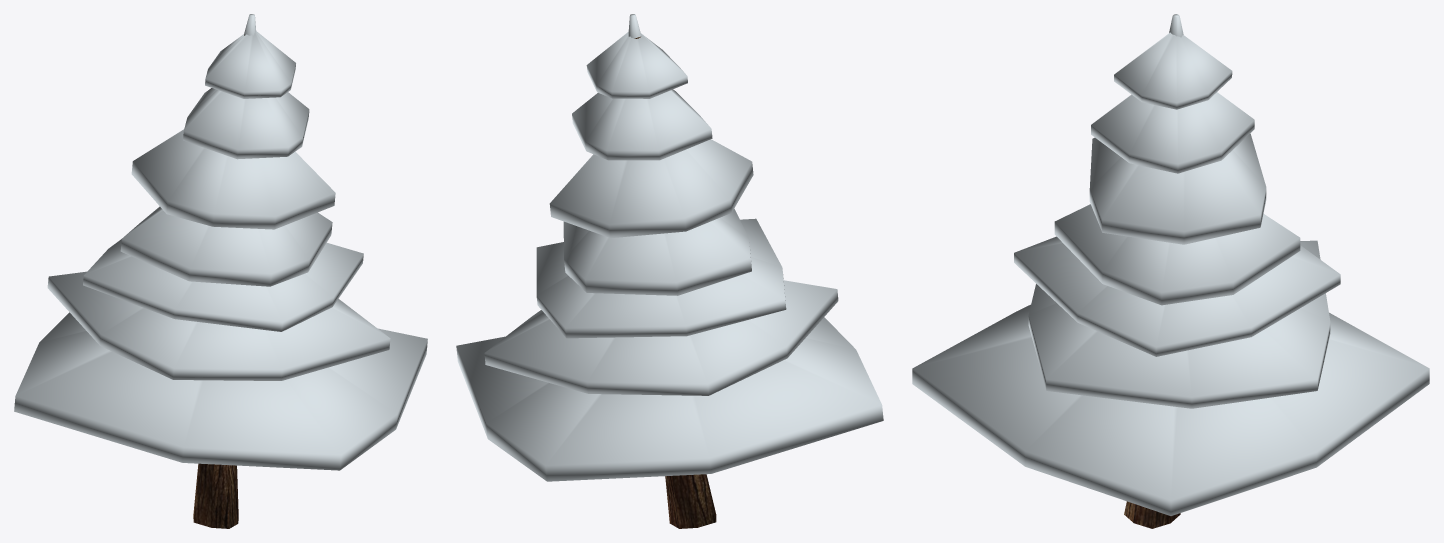
The model's file is Tree.fbx.
The picture shows the model from 3 angles, left to right: view 1: azimuth 30°, elevation 25°; view 2: azimuth 150°, elevation 25°; view 3: azimuth 270°, elevation 25°; orthographic projection. The views are drawn at different scales.
Parts seen in each view (by area): view 1: Treesnow; view 2: Treesnow; view 3: Treesnow.
Part boxes in pixels (box(x1,y1,x2,y2)): Treesnow: box(14, 14, 427, 528); Treesnow: box(456, 14, 883, 528); Treesnow: box(912, 14, 1429, 528).
Size of the model in its own units: 514 by 579 by 515.
1 material, 1 textured.
